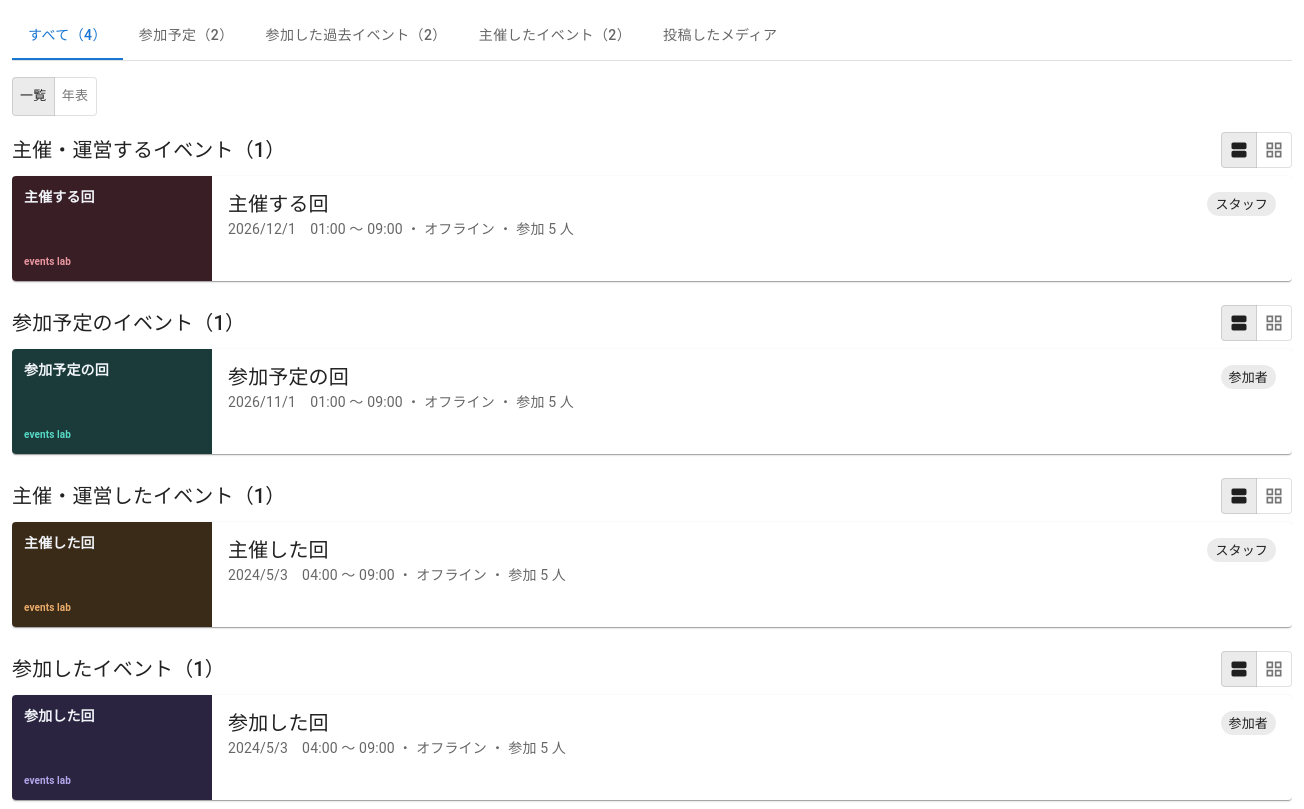
it: 時間タブに主催イベントも出す (#416) › 年表の母集団も追随する（過去タブは主催＋参加の2件）
Click the tab "参加した過去イベント（2）" at (356, 36), box [250,12,463,60]
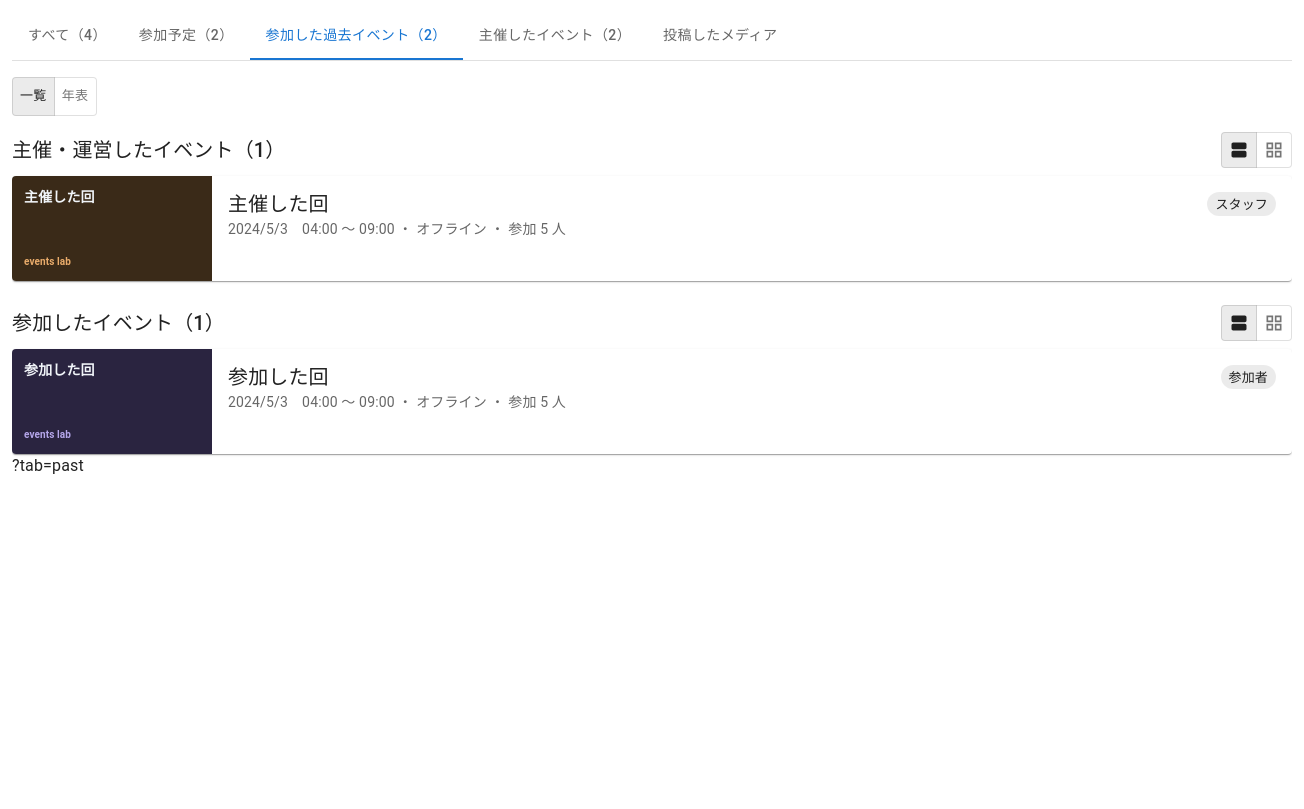
Click the button "年表" at (75, 96), box [54,77,97,116]
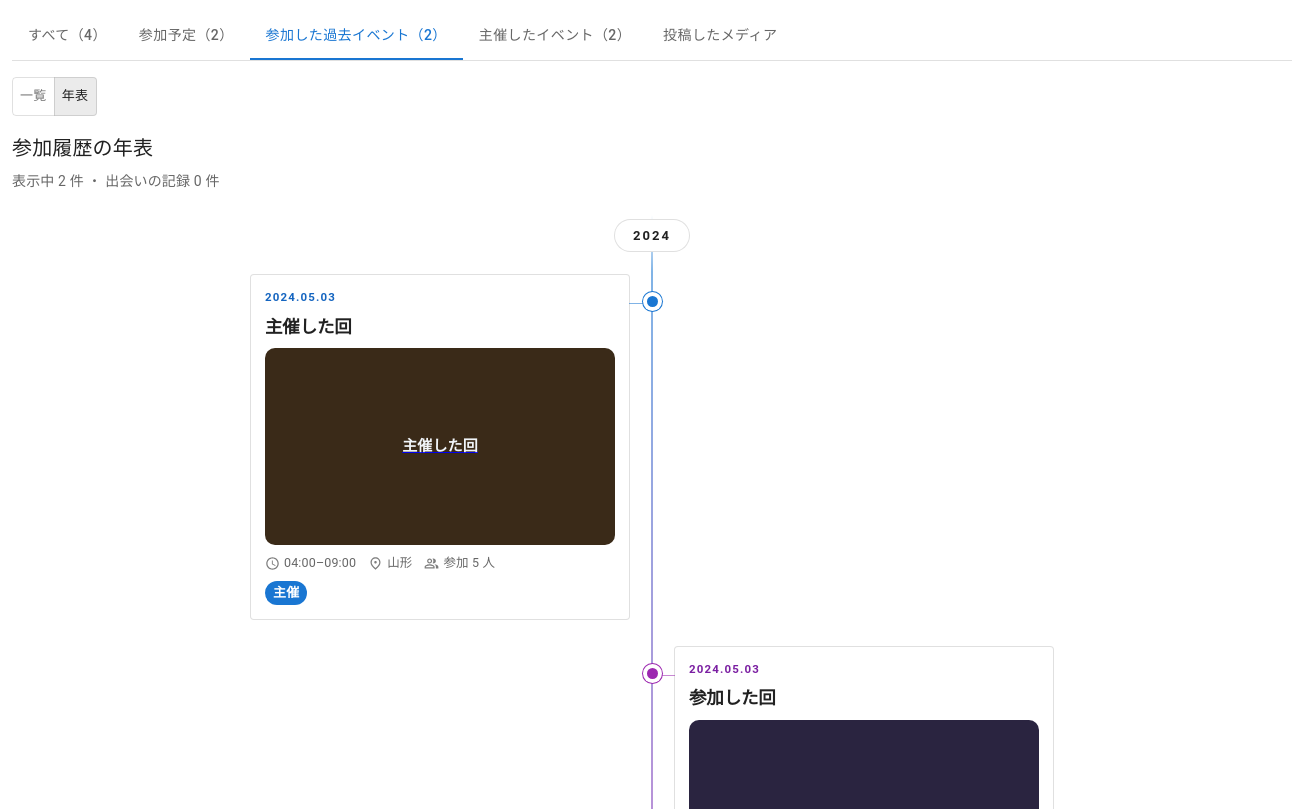
Result: the text "表示中 2 件 ・ 出会いの記録 0 件" is shown at [12,173,220,189]
